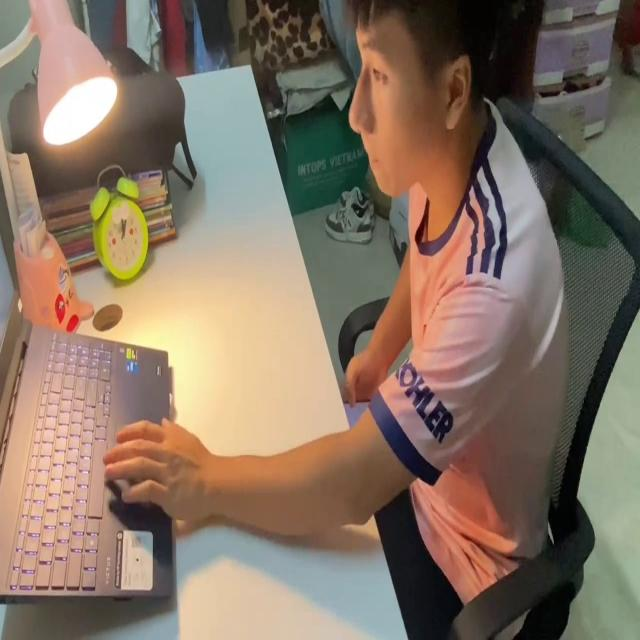laptop: (0, 222, 178, 606)
student: (100, 0, 574, 601)
